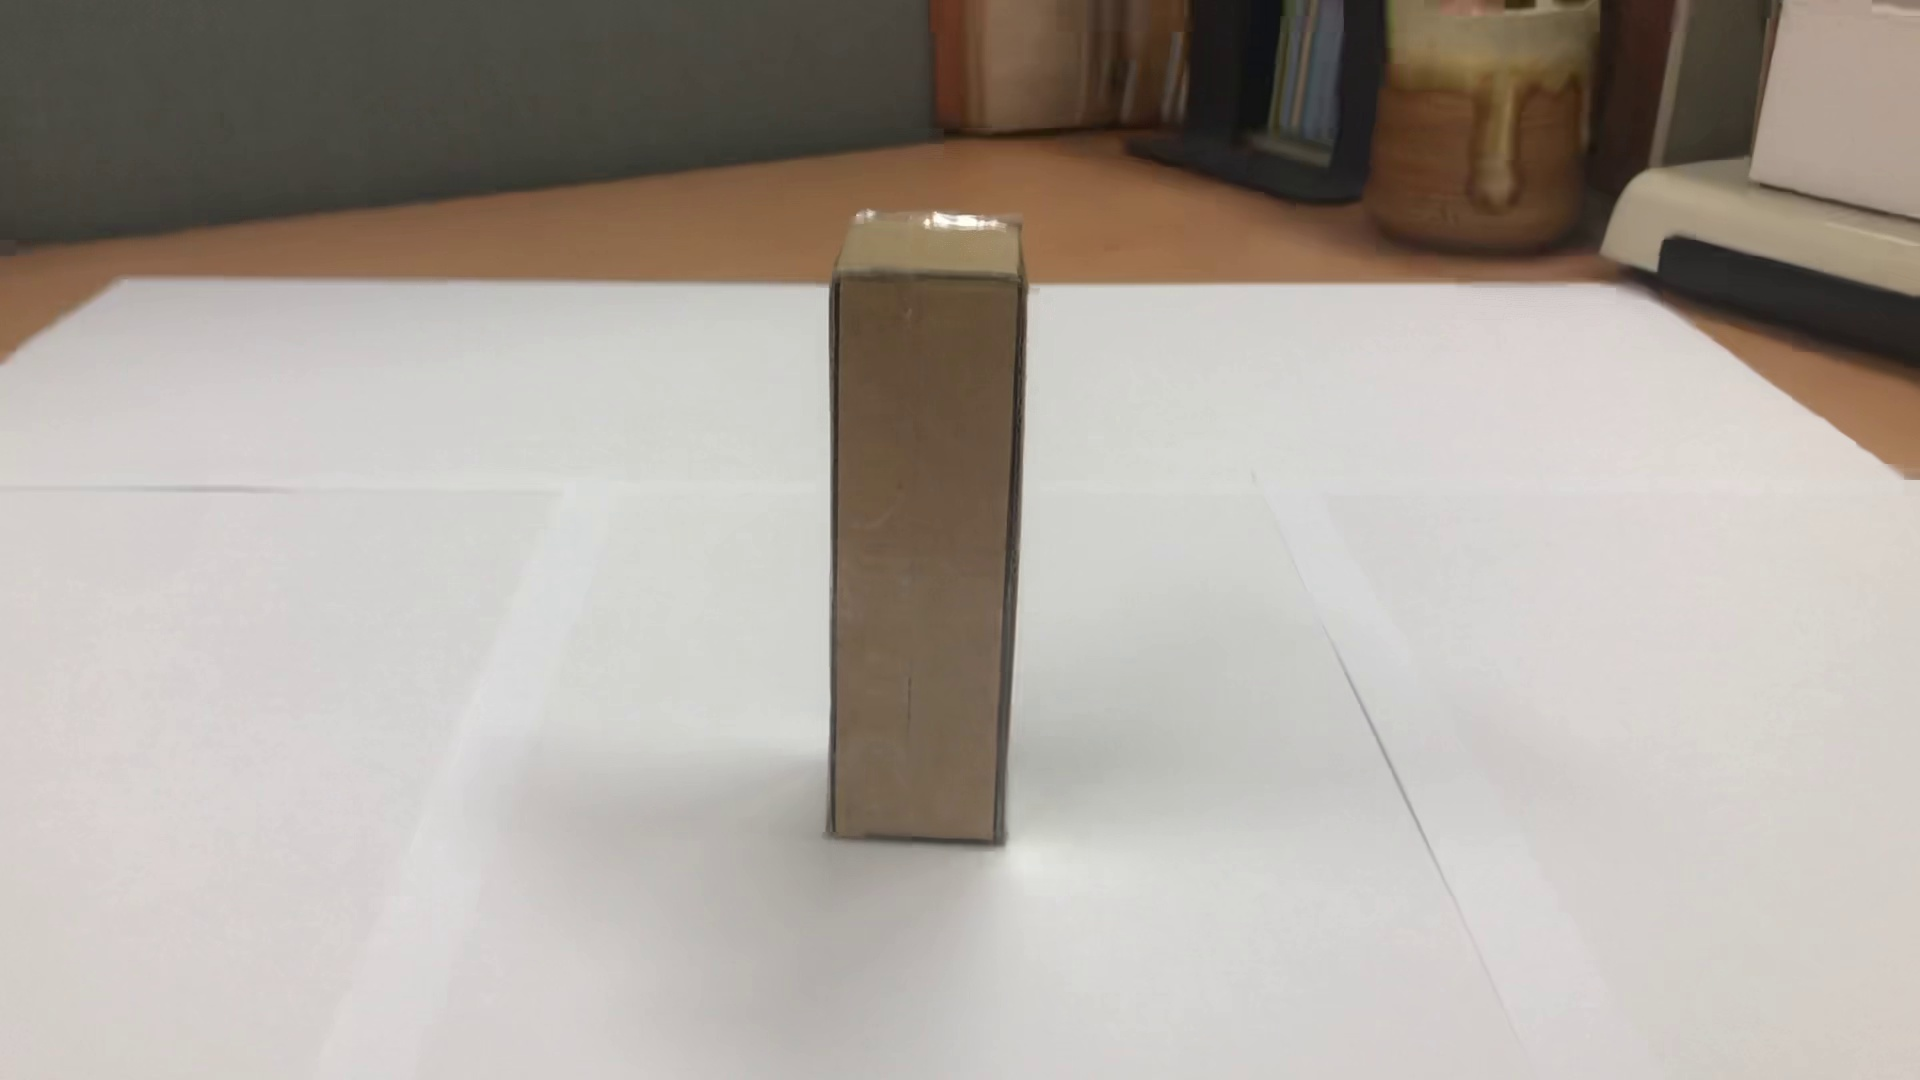box: (781, 181, 1080, 873)
